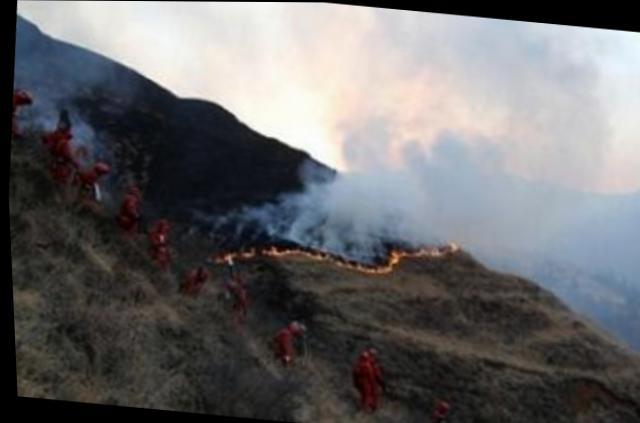fire: (200, 212, 467, 289)
